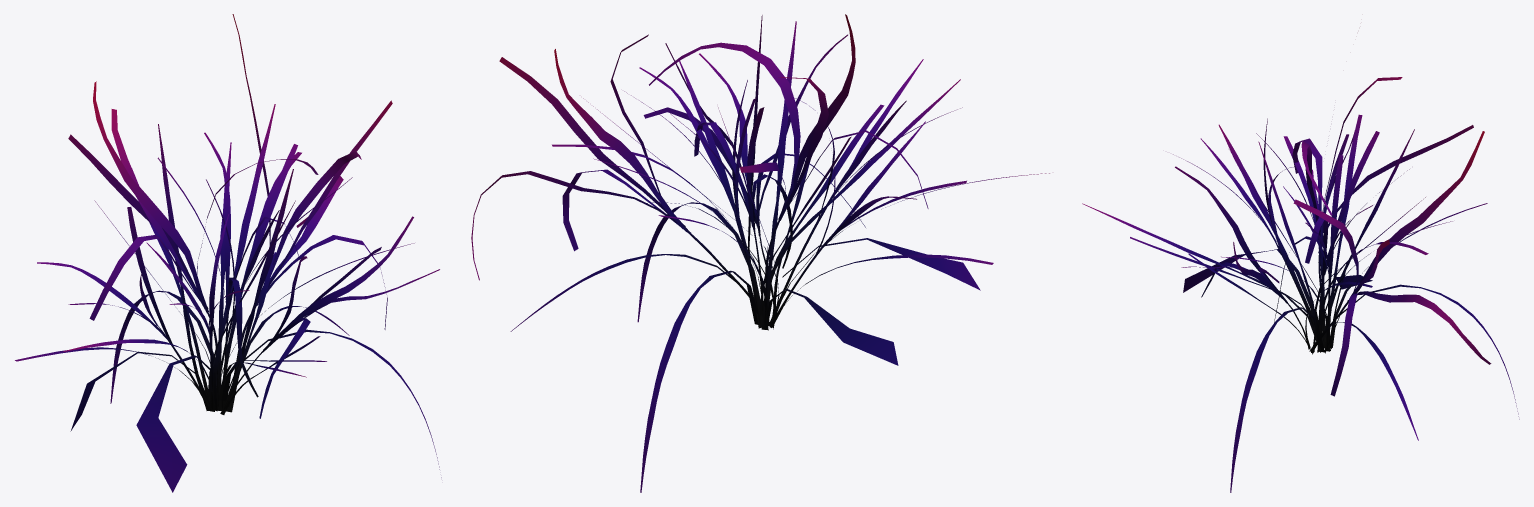
The model's file is Aquatic plantsC.fbx.
3 views of the same model, side by side, from view 1: azimuth 30°, elevation 25°; view 2: azimuth 150°, elevation 25°; view 3: azimuth 270°, elevation 25° (orthographic). The views are drawn at different scales.
Parts seen in each view (by area): view 1: Aquatic plants03; view 2: Aquatic plants03; view 3: Aquatic plants03.
Part boxes in pixels (x1,y1,x2,y2): Aquatic plants03: [15, 14, 441, 492]; Aquatic plants03: [471, 14, 1049, 492]; Aquatic plants03: [1082, 77, 1519, 492].
Size of the model in its own units: 675 by 623 by 682.
